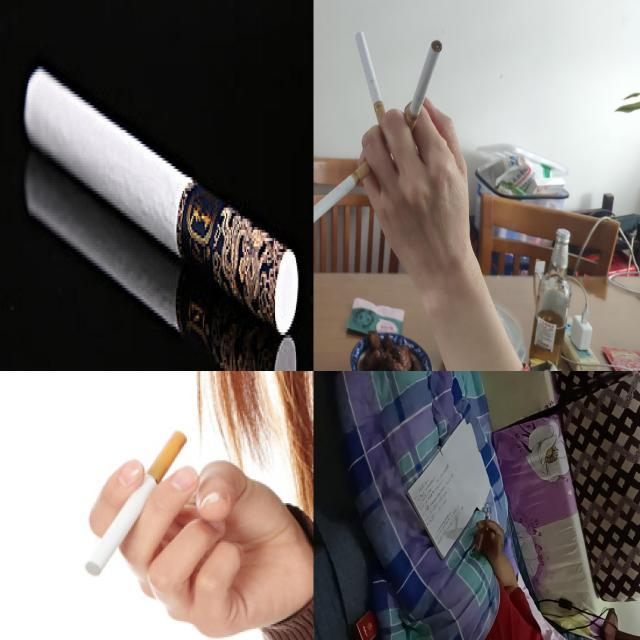smoke: (20, 64, 298, 332), (25, 146, 298, 368), (82, 426, 192, 576), (314, 160, 374, 237), (355, 30, 393, 143), (401, 38, 444, 136), (486, 507, 490, 530)
